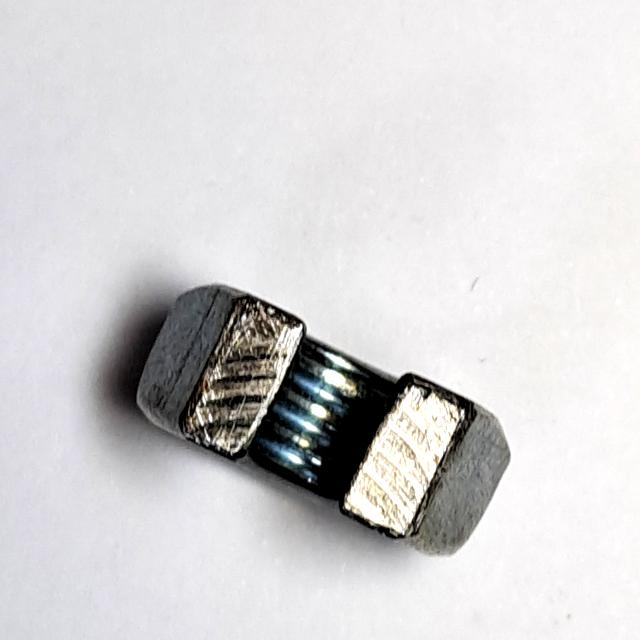Side-Fracture: (126, 273, 516, 572)
